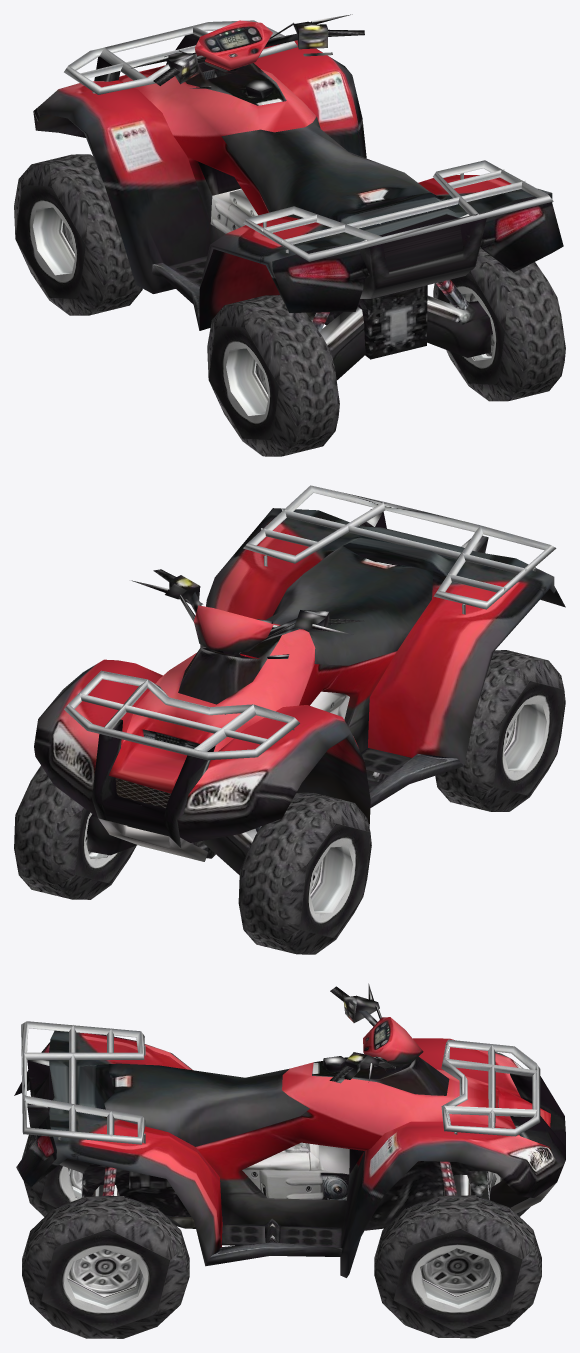
The model's file is ATV0.4.glb.
3 views of the same model, one above another, from view 1: azimuth 30°, elevation 25°; view 2: azimuth 150°, elevation 25°; view 3: azimuth 270°, elevation 25° (orthographic). The views are drawn at different scales.
Visible parts, largest first — view 1: ATV; view 2: ATV; view 3: ATV.
Part boxes in pixels (x1,y1,x2,y2): ATV: [14, 14, 565, 456]; ATV: [14, 485, 565, 954]; ATV: [14, 983, 565, 1338].
Size of the model in its own units: 1.43 by 1.33 by 2.62.
Materials: 1 (1 with a texture image).
